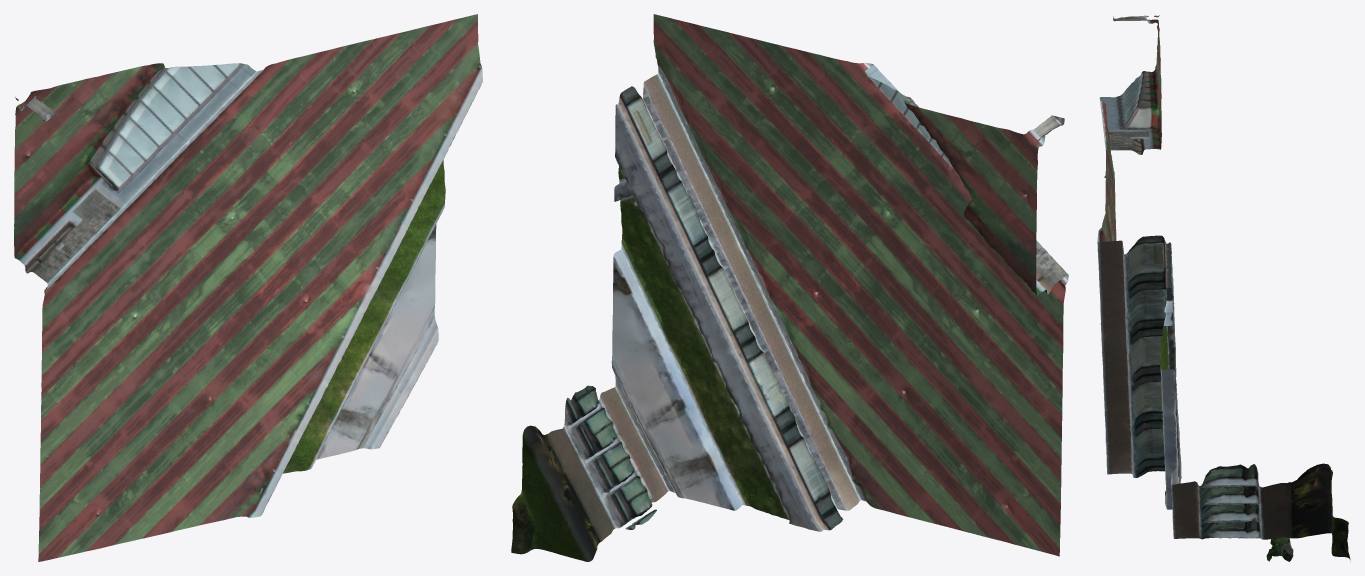
Rendered from Tile_+013_+016.fbx.
The picture shows the model from 3 angles, left to right: view 1: azimuth 30°, elevation 25°; view 2: azimuth 150°, elevation 25°; view 3: azimuth 270°, elevation 25°; orthographic projection. The views are drawn at different scales.
Parts seen in each view (by area): view 1: DefaultName; view 2: DefaultName; view 3: DefaultName.
Boxes of the visible parts, left/top/right/bottom form: DefaultName: left=14, top=14, right=482, bottom=561; DefaultName: left=511, top=14, right=1068, bottom=561; DefaultName: left=1097, top=15, right=1350, bottom=561.
Bounding box in the file's own units: 22.54 × 22.54 × 13.84.
